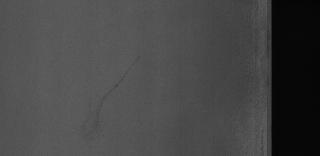water spot: (82, 56, 158, 138)
